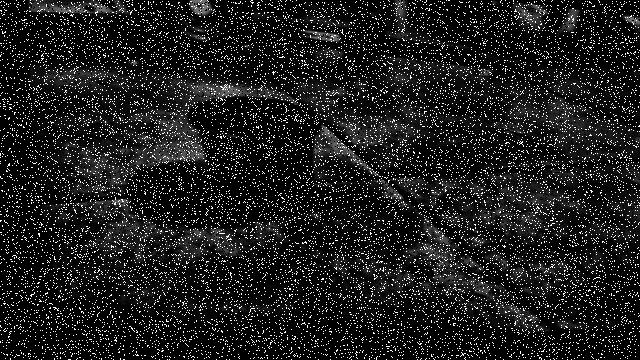pot: (190, 97, 318, 214)
